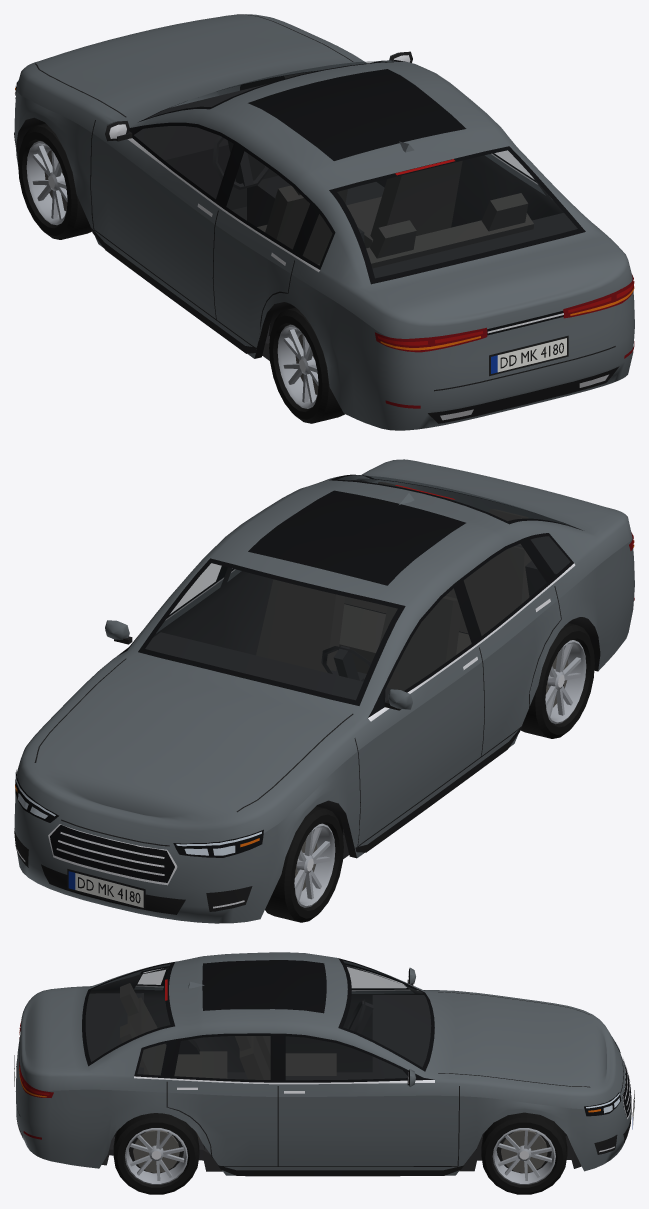
Rendered from limousine_ober.glb.
The picture shows the model from 3 angles, top to bottom: view 1: azimuth 30°, elevation 25°; view 2: azimuth 150°, elevation 25°; view 3: azimuth 270°, elevation 25°; orthographic projection. The views are drawn at different scales.
Parts seen in each view (by area): view 1: Body, Glass, Interior, Tire_RL, Tire_FL, Lights, Rim_RL, Rim_FL; view 2: Body, Glass, Interior, Tire_FL, Tire_RL, Rim_FL, Rim_RL, Lights; view 3: Body, Glass, Interior, Tire_FR, Tire_RR, Rim_FR, Rim_RR, Lights.
Boxes of the visible parts, <box> form: Body: <box>14,14,634,430</box>; Glass: <box>134,60,577,277</box>; Interior: <box>134,84,577,373</box>; Tire_RL: <box>269,307,344,423</box>; Tire_FL: <box>18,123,91,239</box>; Lights: <box>15,80,634,408</box>; Rim_RL: <box>277,324,318,408</box>; Rim_FL: <box>26,141,67,225</box>; Body: <box>14,459,634,923</box>; Glass: <box>145,475,569,701</box>; Interior: <box>145,480,570,701</box>; Tire_FL: <box>265,806,343,922</box>; Tire_RL: <box>520,623,594,738</box>; Rim_FL: <box>294,823,335,907</box>; Rim_RL: <box>545,640,586,724</box>; Lights: <box>15,485,634,855</box>; Body: <box>14,952,634,1176</box>; Glass: <box>86,961,430,1079</box>; Interior: <box>85,965,431,1153</box>; Tire_FR: <box>481,1112,567,1194</box>; Tire_RR: <box>113,1113,199,1194</box>; Rim_FR: <box>492,1128,555,1184</box>; Rim_RR: <box>125,1128,187,1184</box>; Lights: <box>19,979,619,1139</box>.
Bounding box in the file's own units: 2.1 × 1.47 × 5.
